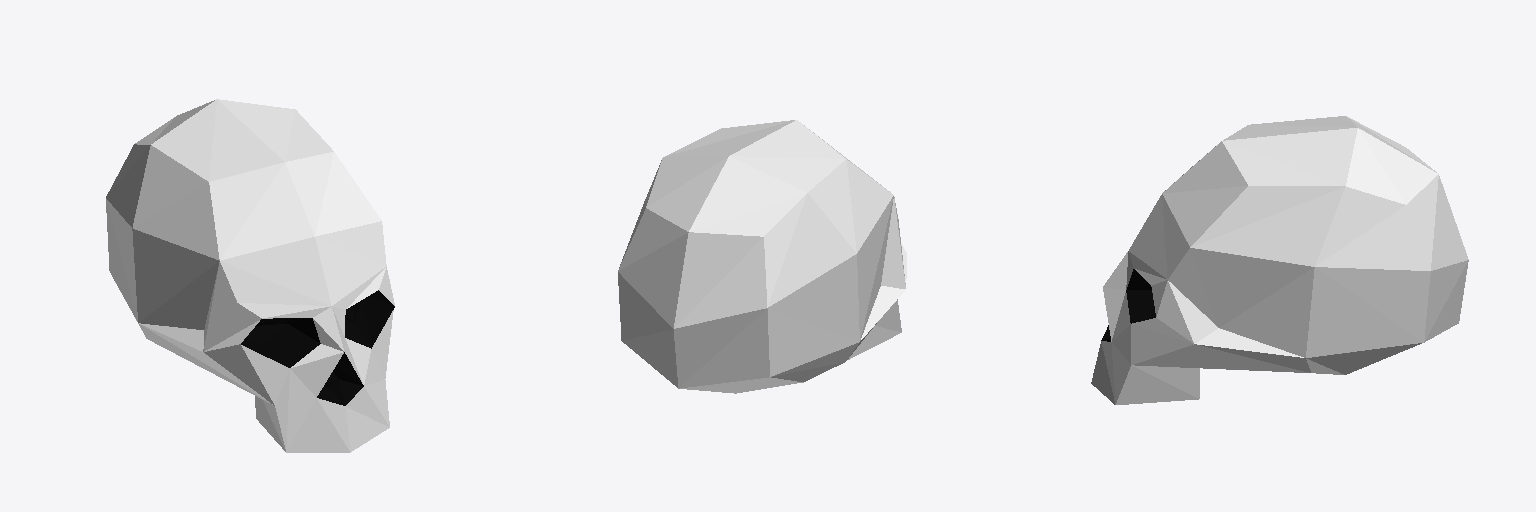
Rendered from skull1.obj.
3 views of the same model, side by side, from view 1: azimuth 30°, elevation 25°; view 2: azimuth 150°, elevation 25°; view 3: azimuth 270°, elevation 25° (orthographic).
Parts seen in each view (by area): view 1: Object.1; view 2: Object.1; view 3: Object.1.
Part boxes in pixels (x1,y1,x2,y2): Object.1: (106,99,394,452); Object.1: (618,120,906,393); Object.1: (1091,116,1468,404).
Bounding box in the file's own units: 0.325 × 0.375 × 0.5.